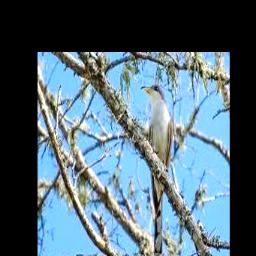Cuckoo: (142, 84, 173, 256)
